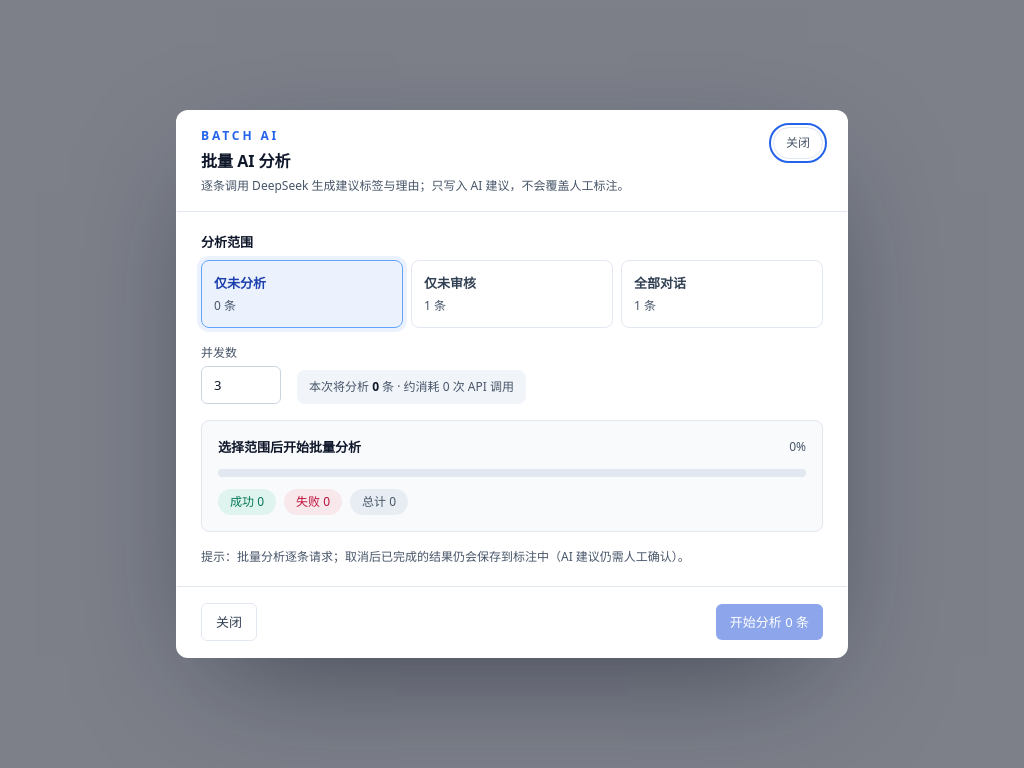
Scenario: BatchAnalysisPanel 渲染与默认态 › 当前范围无候选 → 开始按钮禁用；切换到有候选范围后恢复可用
expect the button "开始分析 0 条" is disabled: met, box left=716, top=604, right=823, bottom=640
expect the text "本次将分析 0 条 · 约消耗 0 次 API 调用" is shown: met, box left=297, top=370, right=526, bottom=404
Click the button "全部对话 1 条" at (722, 294), box left=621, top=260, right=823, bottom=328
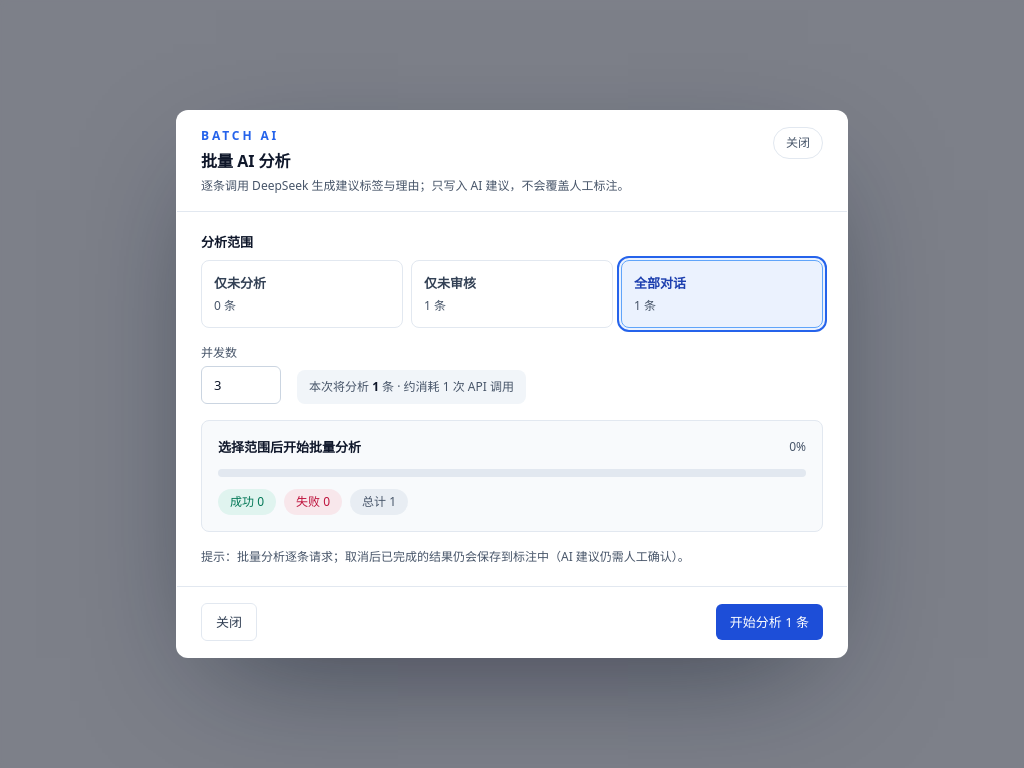
expect the button "开始分析 1 条" is enabled: met, box left=716, top=604, right=823, bottom=640
